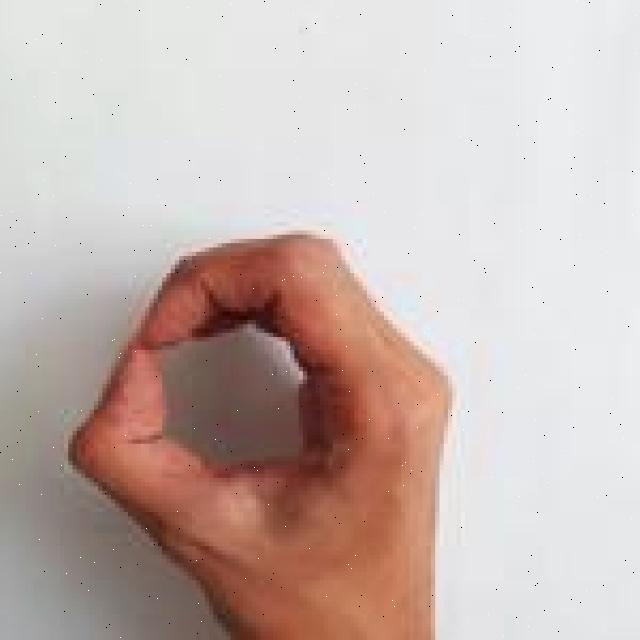O: (58, 224, 463, 640)
